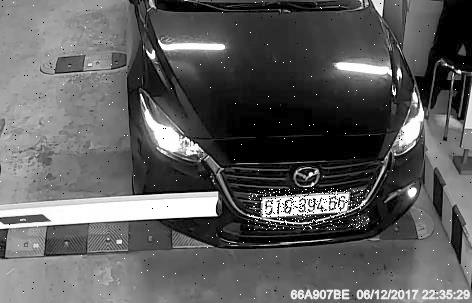License-plate: (249, 189, 370, 231)
